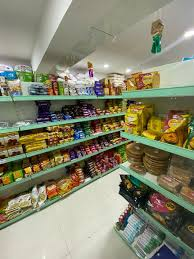other: (147, 117, 163, 133)
